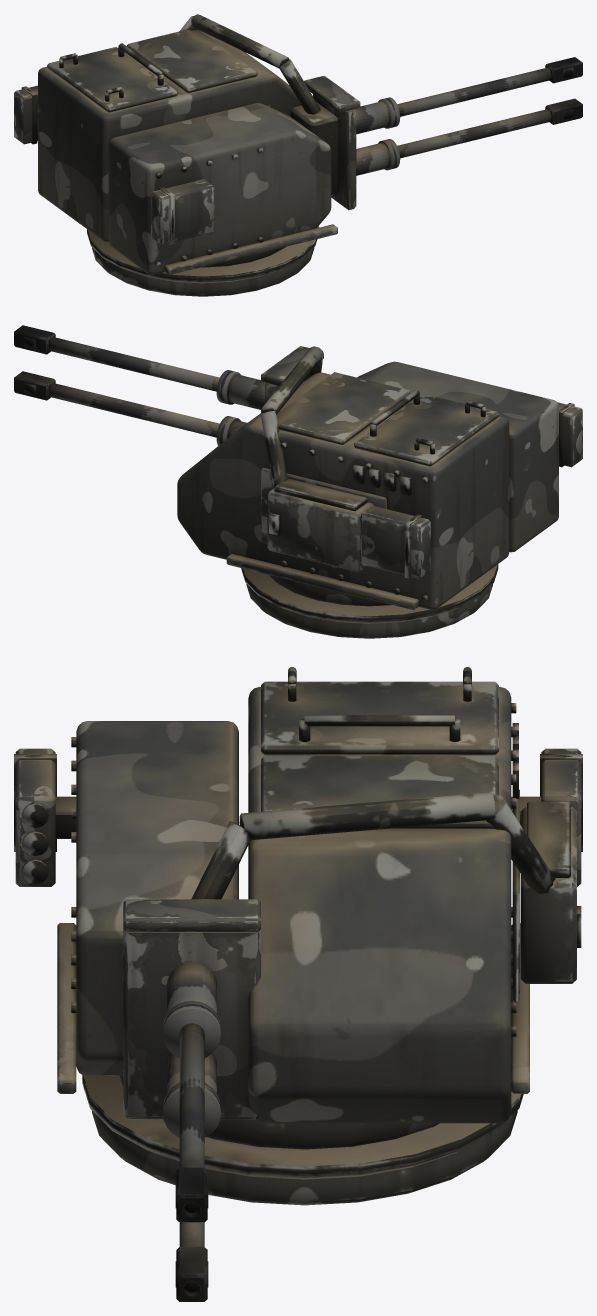
Rendered from turret_grach_t2_ash.glb.
3 renders of one model, top to bottom at view 1: azimuth 30°, elevation 25°; view 2: azimuth 150°, elevation 25°; view 3: azimuth 270°, elevation 25°, orthographic. The views are drawn at different scales.
Visible parts, largest first — view 1: turret_light_t2, guns, pods; view 2: turret_light_t2, guns, pods; view 3: turret_light_t2, guns, pods.
Part boxes in pixels (left/top/right/bottom): turret_light_t2: left=38, top=14, right=337, bottom=296; guns: left=290, top=57, right=582, bottom=210; pods: left=14, top=85, right=214, bottom=244; turret_light_t2: left=177, top=346, right=558, bottom=638; guns: left=14, top=325, right=323, bottom=445; pods: left=360, top=402, right=582, bottom=578; turret_light_t2: left=57, top=667, right=581, bottom=1205; guns: left=123, top=899, right=260, bottom=1301; pods: left=14, top=748, right=582, bottom=886.
Bounding box in the file's own units: 1.64 × 0.6416 × 0.9088.
3 materials, 3 textured.
